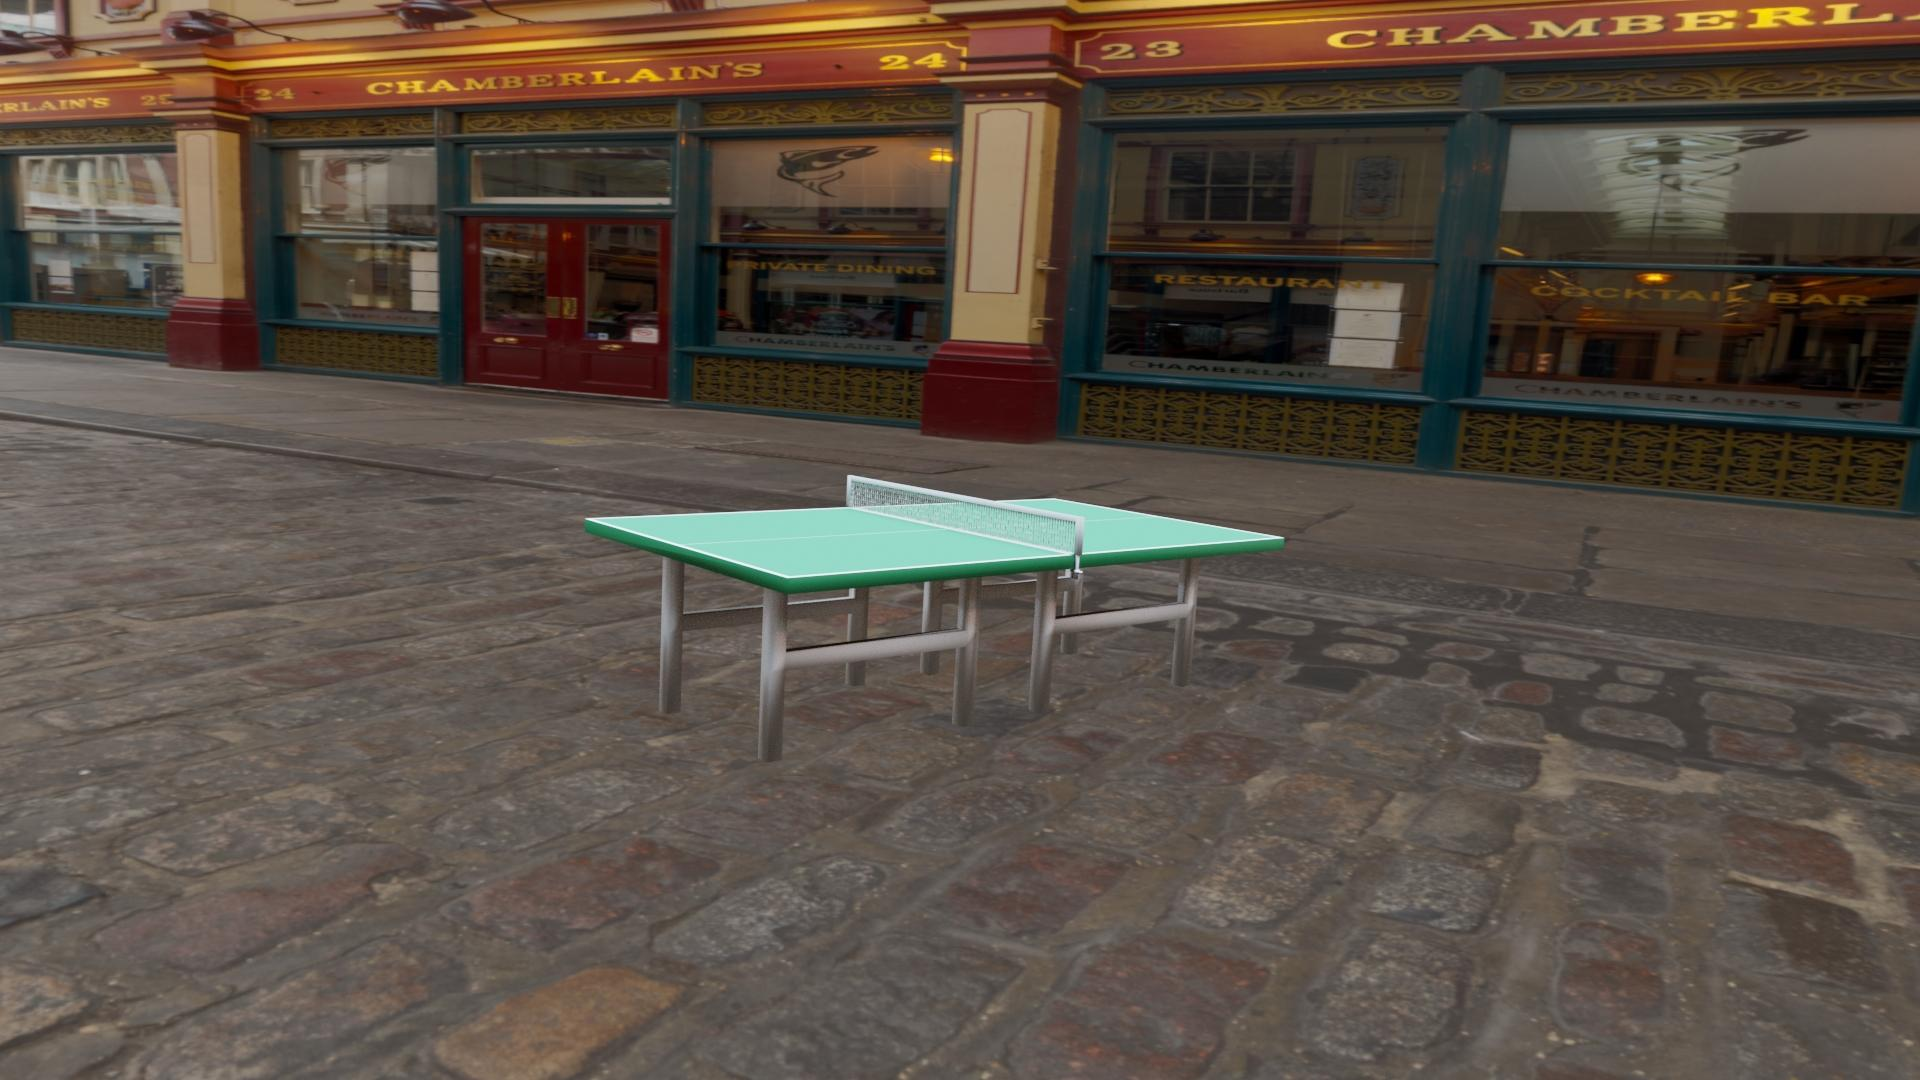table: (592, 500, 1278, 576)
